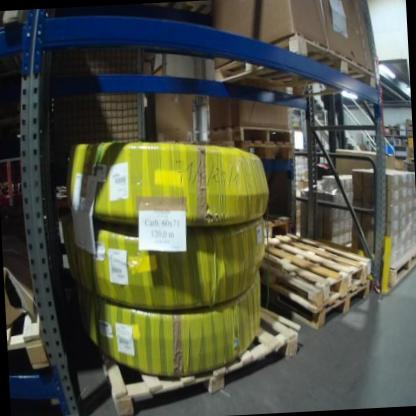pallet: (100, 298, 303, 416), (210, 27, 377, 105), (253, 226, 374, 317), (259, 271, 374, 334), (5, 300, 51, 367), (210, 119, 293, 147), (385, 244, 416, 290), (233, 139, 294, 162)
pallet_truck: (307, 86, 356, 183)
stillage: (41, 28, 169, 189)
